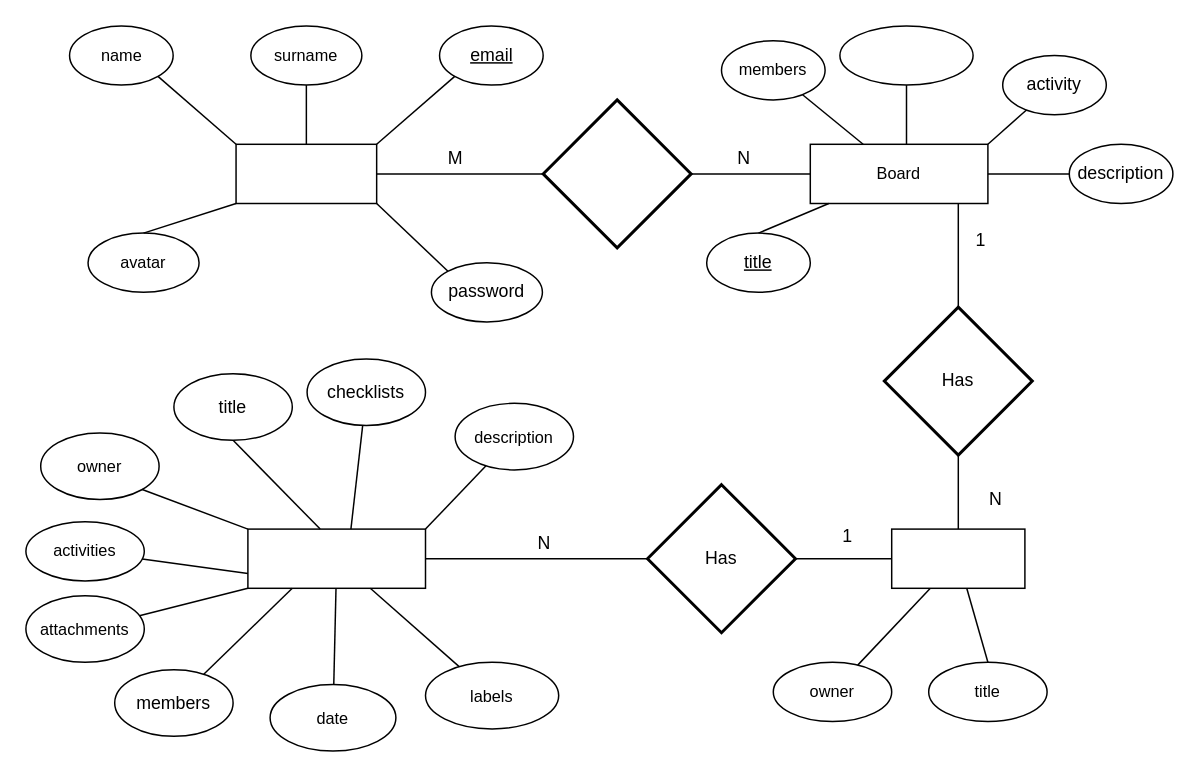
Some shapes in this 1199 by 777 pixel diagram are drawn without their labels. The shapes that lost their labels are listed below. From the top down, each one's box as (x1, y1, x2, y2) in pixels, then its label:
(838, 24, 973, 85): background image
(235, 143, 377, 204): User
(541, 98, 692, 249): Creates
(246, 528, 426, 588): Card
(890, 528, 1025, 588): List
